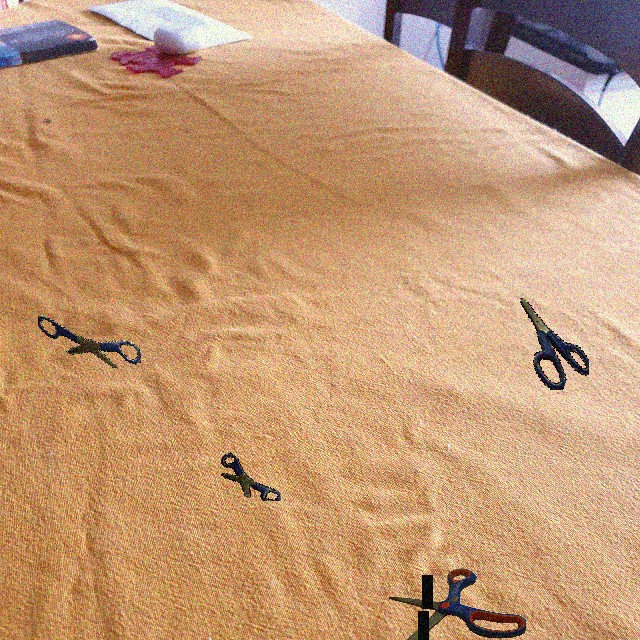scissors: (389, 568, 526, 640), (519, 298, 589, 390), (38, 315, 141, 368), (221, 452, 281, 501)
